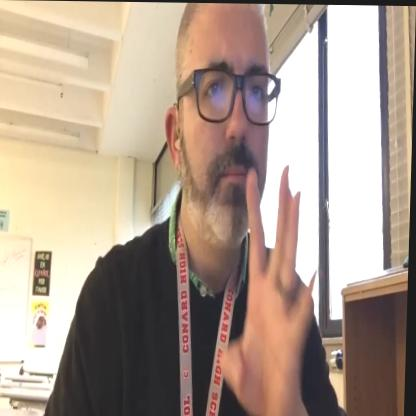Talk: (164, 2, 329, 416)
